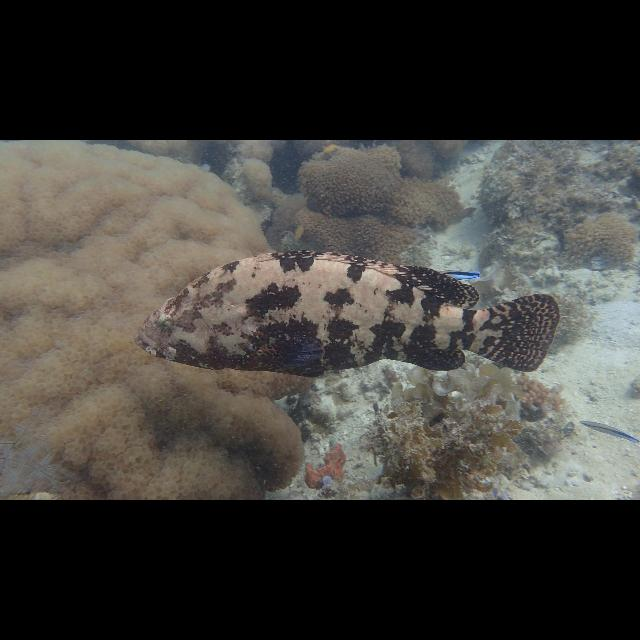Groupers: (132, 250, 562, 376)
